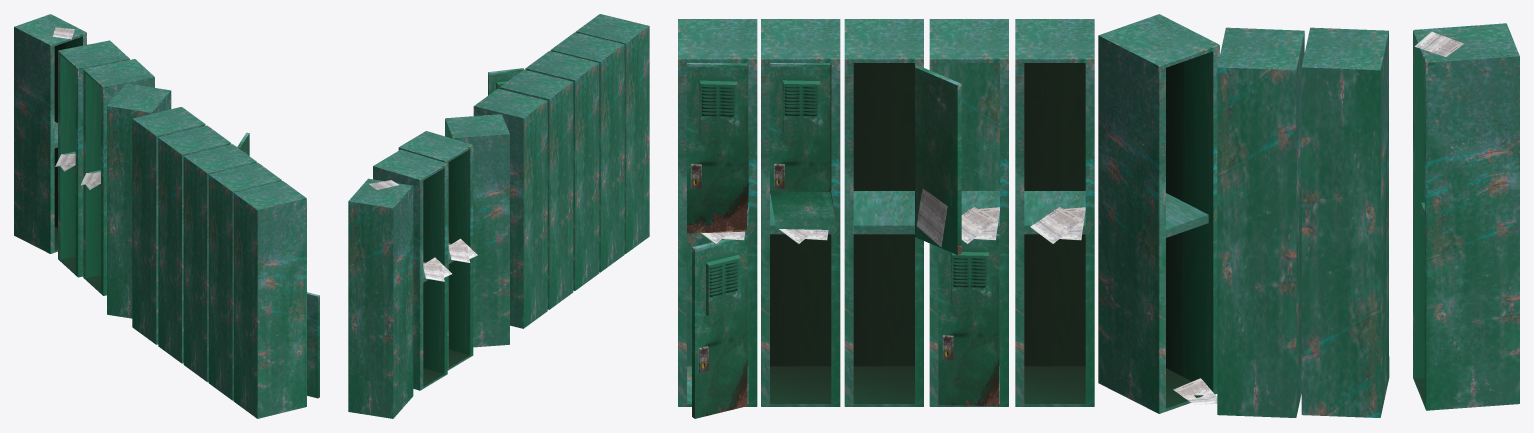
File: Lockers03.fbx
3 renders of one model, left to right at view 1: azimuth 30°, elevation 25°; view 2: azimuth 150°, elevation 25°; view 3: azimuth 270°, elevation 25°, orthographic. The views are drawn at different scales.
Visible parts, largest first — view 1: Empty_Mesh; view 2: Empty_Mesh; view 3: Empty_Mesh.
Boxes of the visible parts, bbox=[...] form: Empty_Mesh: bbox=[14, 14, 319, 418]; Empty_Mesh: bbox=[348, 14, 649, 418]; Empty_Mesh: bbox=[678, 14, 1519, 418].
Size of the model in its own units: 79.75 by 197 by 425.
